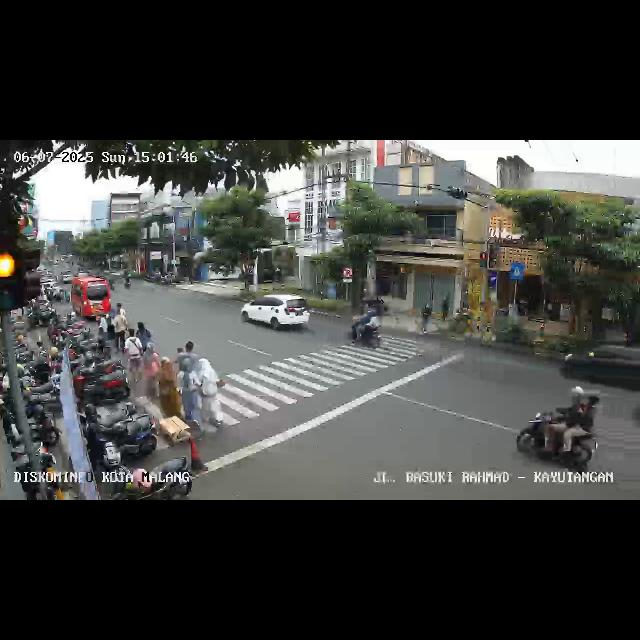car: (563, 339, 639, 398), (242, 294, 310, 334), (70, 276, 111, 320)
motorcycle: (517, 392, 601, 474), (348, 304, 384, 348)
person: (196, 358, 228, 428), (177, 358, 206, 428), (157, 356, 183, 418), (143, 342, 163, 402), (125, 328, 145, 387), (172, 339, 202, 371), (112, 310, 128, 350), (416, 300, 432, 336), (136, 320, 152, 344), (98, 316, 109, 344), (114, 302, 126, 318)
